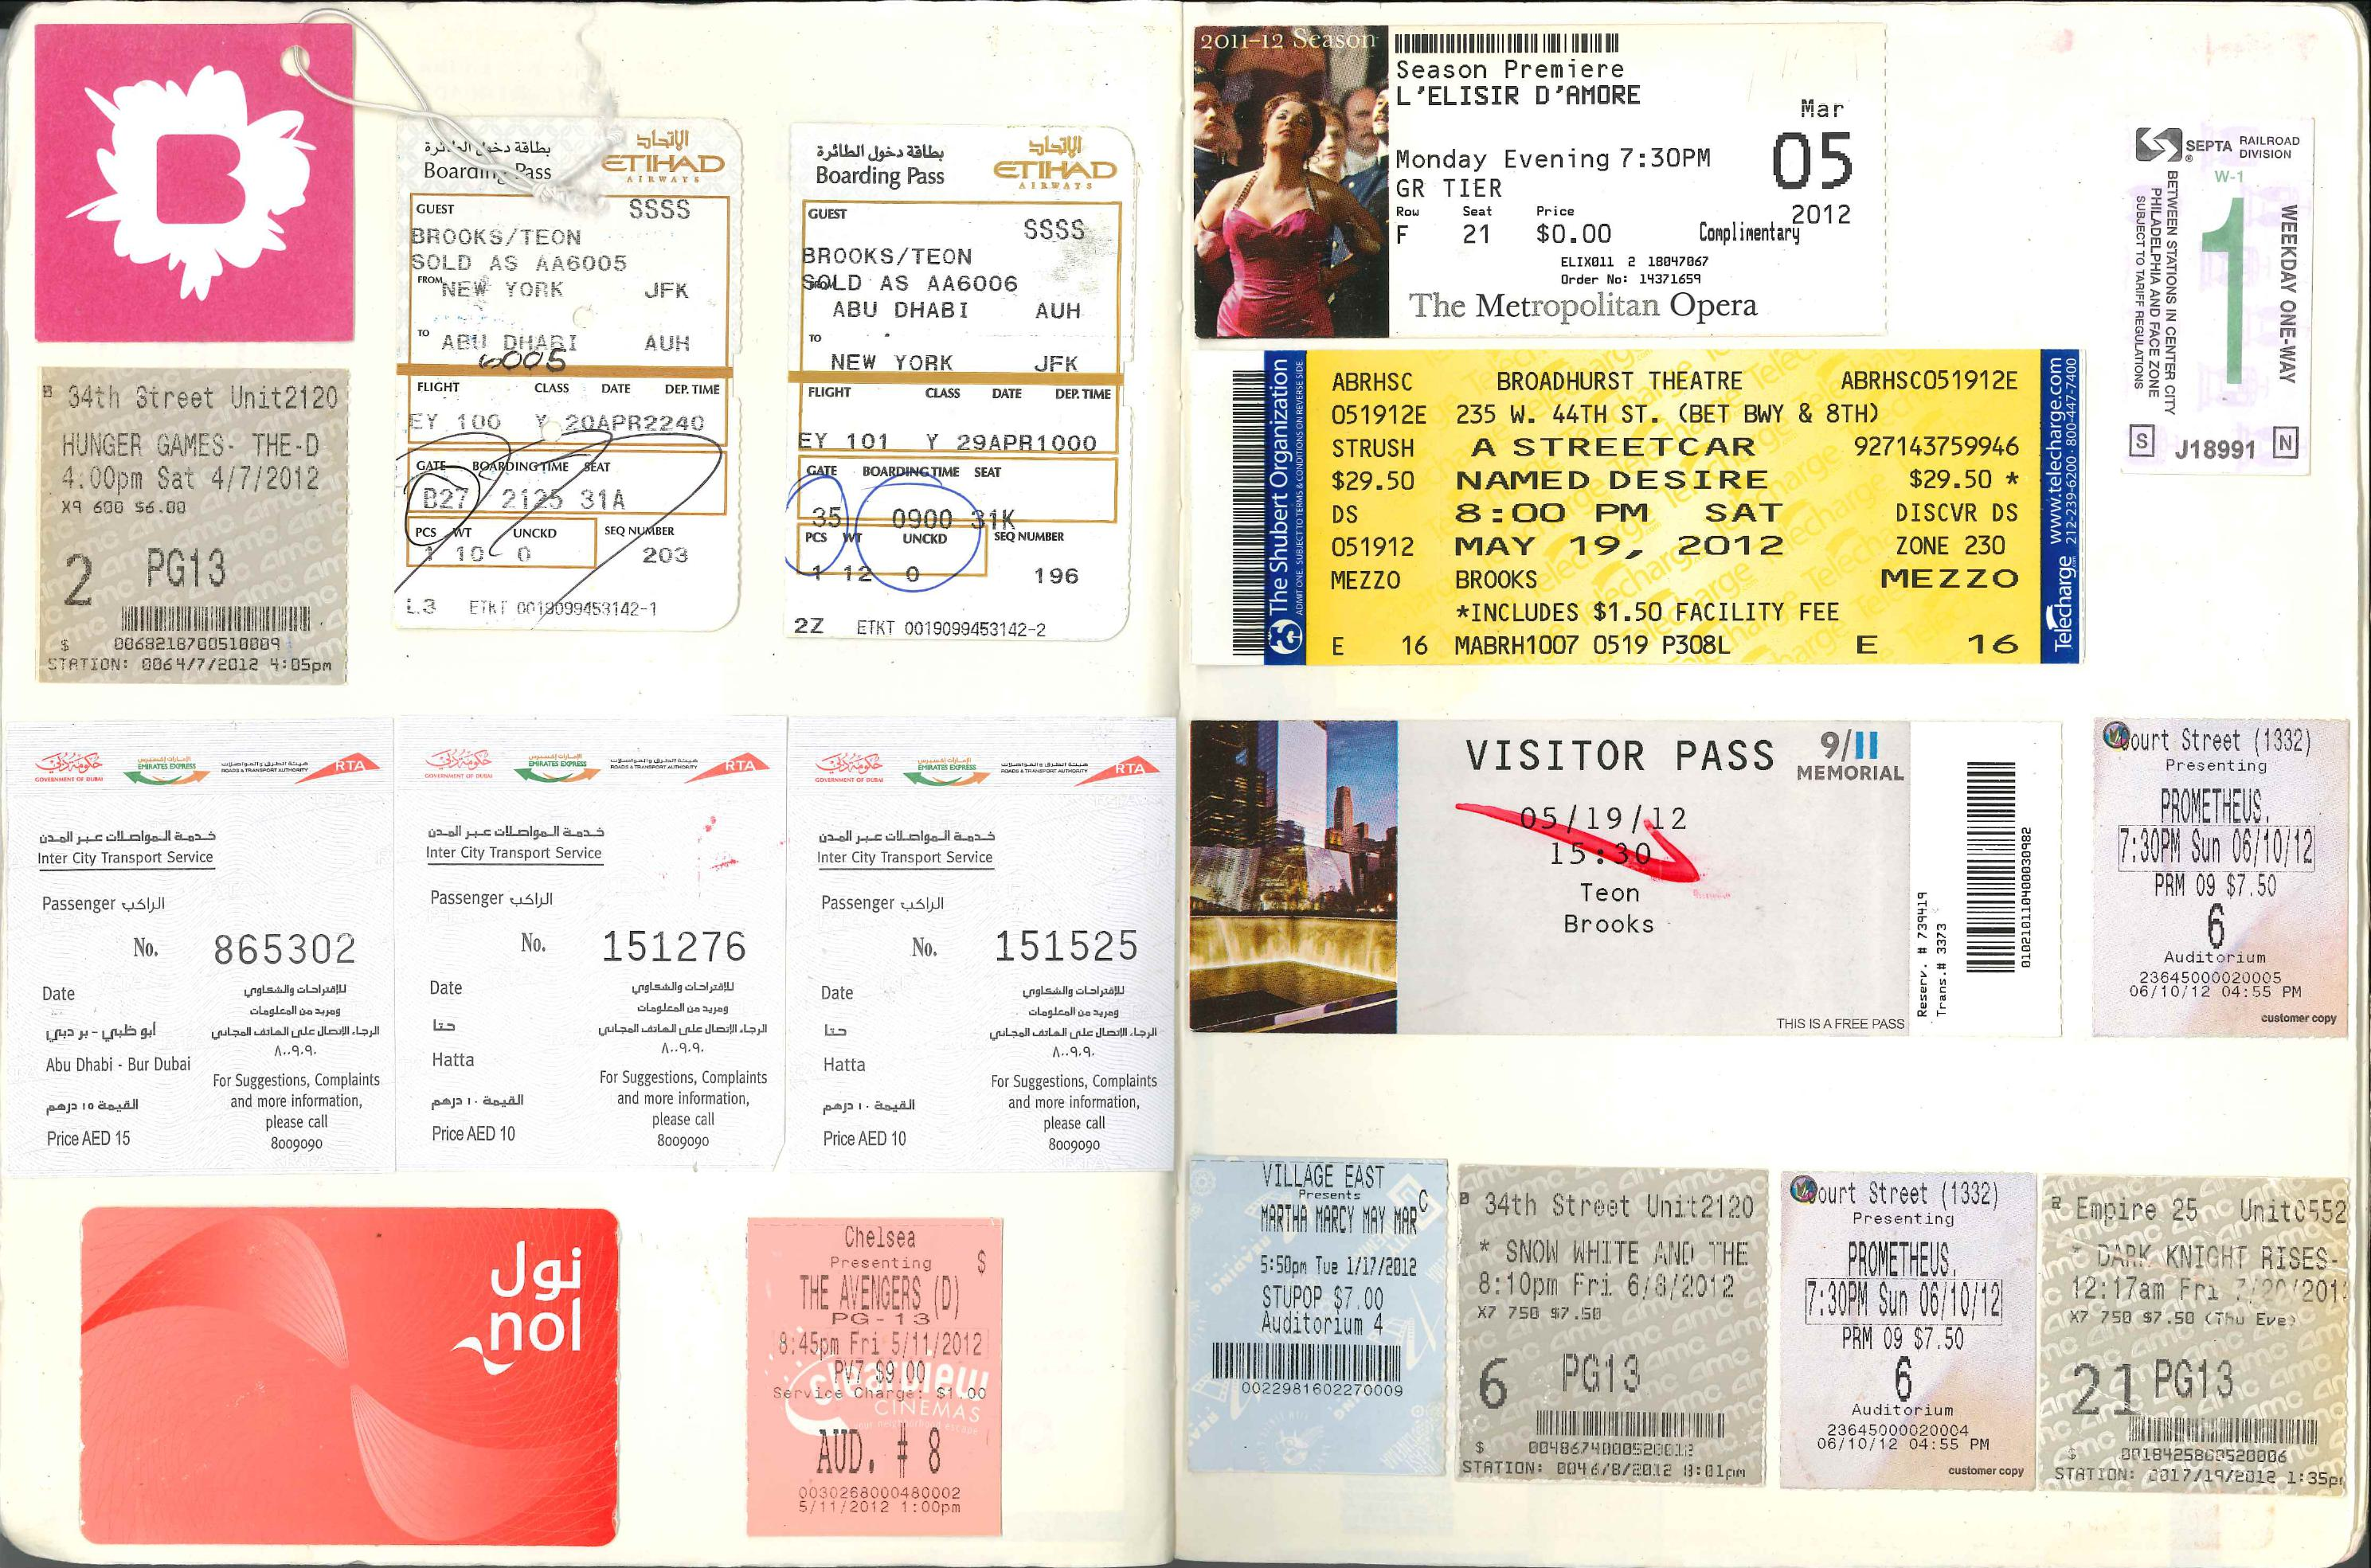stub: (1192, 346, 2089, 672), (1188, 719, 2065, 1036), (1188, 26, 1893, 338), (383, 117, 745, 633), (80, 1204, 626, 1545), (786, 719, 1178, 1179), (789, 122, 1137, 639), (397, 716, 786, 1167), (14, 716, 392, 1178), (1452, 1162, 1771, 1486), (42, 367, 357, 693), (35, 24, 357, 341), (2035, 1178, 2350, 1494), (1183, 1157, 1452, 1479), (2095, 721, 2357, 1046), (1776, 1169, 2040, 1491), (744, 1218, 1006, 1540), (2126, 128, 2319, 474)
